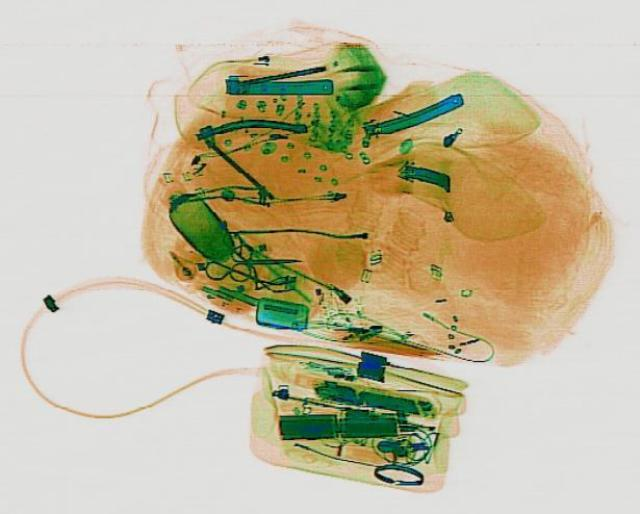Scissors: (230, 242, 300, 280)
